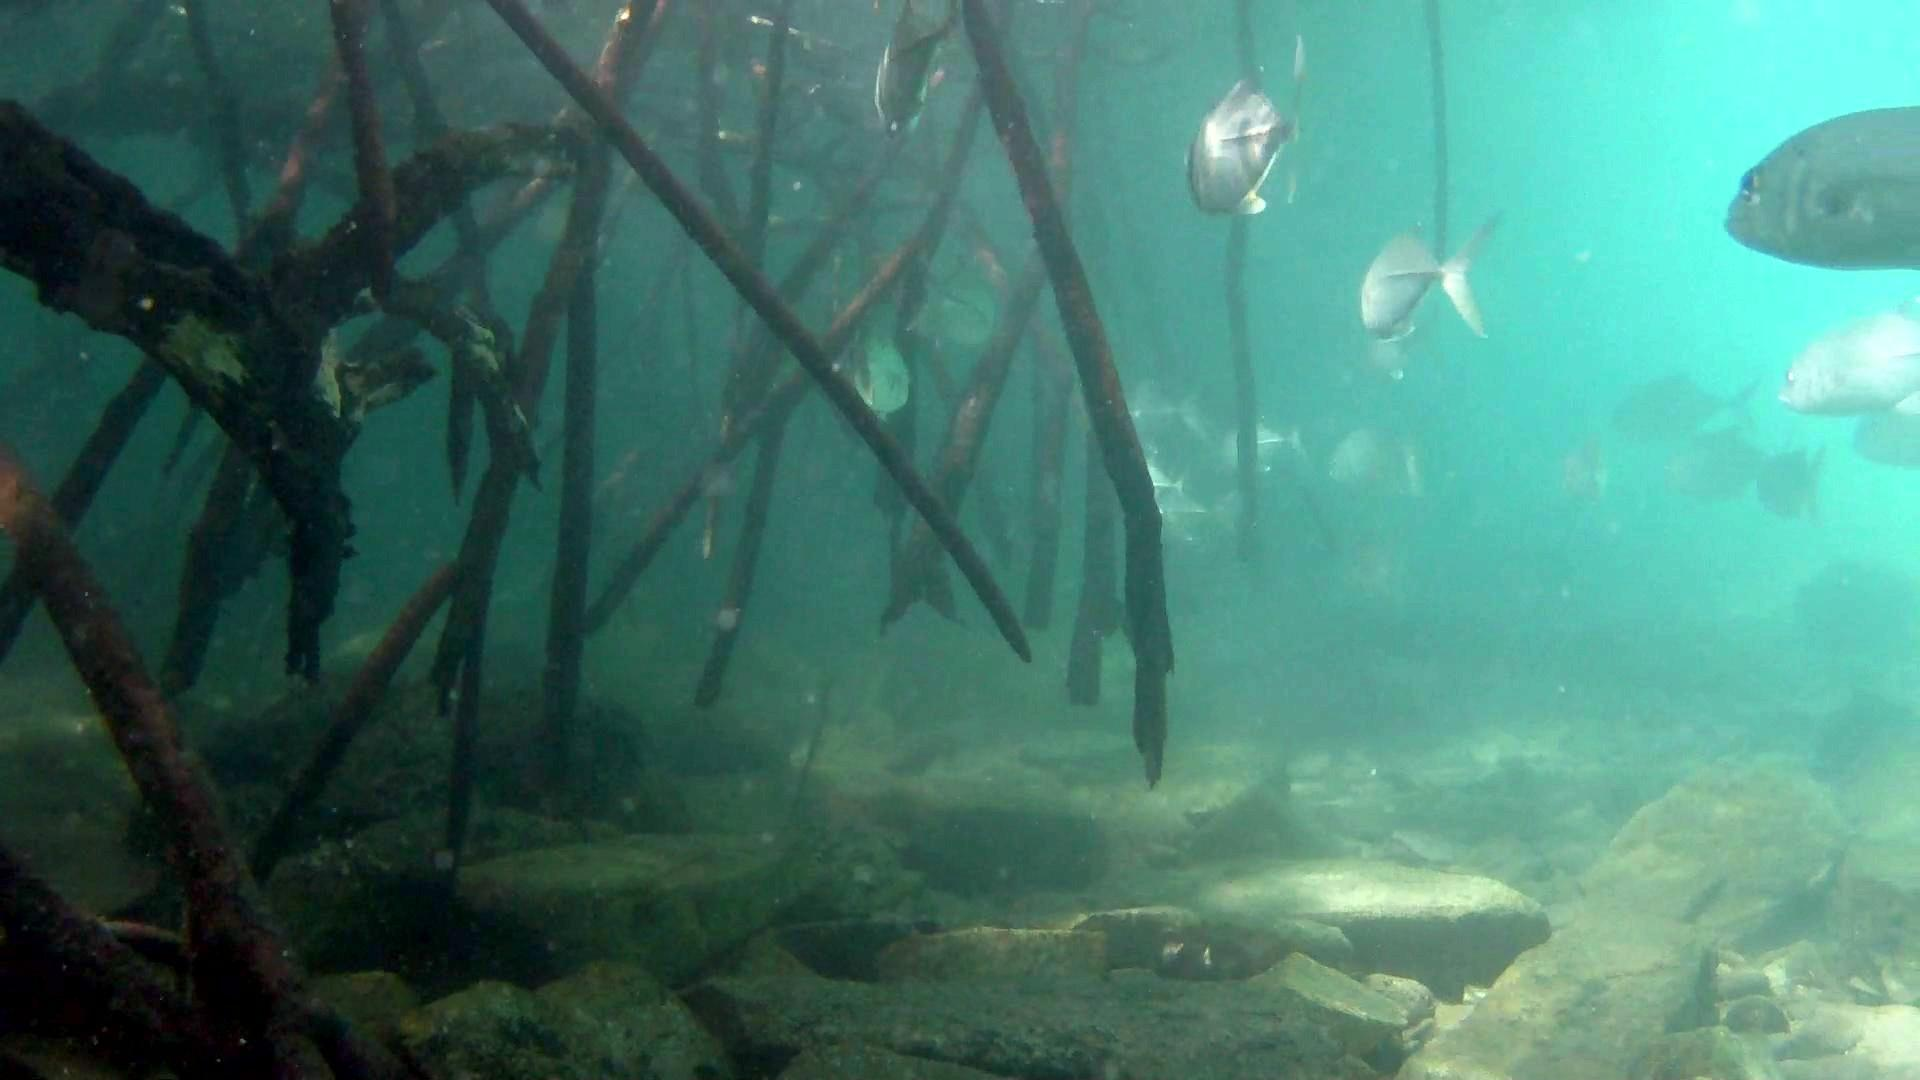caranx: (1708, 85, 1920, 279), (1171, 23, 1333, 217), (1345, 198, 1508, 354)
